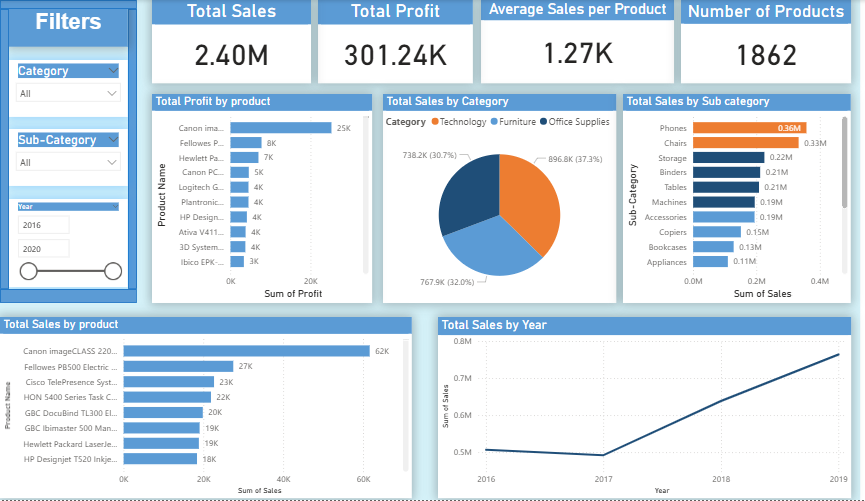

This screenshot's page, from the dashboard's own definition file:
{"tool":"powerbi","page":{"name":"product analysis","canvas":[1280,720],"ordinal":1},"visuals":[{"type":"shape","box":[205.9,13,13,403.2],"z":0},{"type":"textbox","box":[34.6,7.2,171.4,60.5],"z":1000},{"type":"card","title":"Average Sales per Product","fields":{"Values":["Fact.Average Sales per Product"]},"box":[713.8,0,277.9,119.5],"z":2000},{"type":"card","title":"Total Profit","fields":{"Values":["Fact.Total profit"]},"box":[480,0,223.2,119.5],"z":3000},{"type":"card","title":"Number of Products","fields":{"Values":["Count(Dim product.Product ID)"]},"box":[1002.2,0,244.8,119.5],"z":4000},{"type":"card","title":"Total Sales","fields":{"Values":["Fact.Total sales"]},"box":[240.5,0,229,119.5],"z":5000},{"type":"slicer","fields":{"Values":["Dim category.Category"]},"box":[34.6,85.9,171.4,82.1],"z":6000},{"type":"slicer","fields":{"Values":["Dim date.Year"]},"box":[34.6,286.6,171.4,126.7],"z":7000},{"type":"pieChart","title":"Total Sales by Category","fields":{"Category":["Dim category.Category"],"Y":["Sum(Fact.Sales)"]},"box":[573.1,135.4,335.5,301],"z":8000},{"type":"barChart","title":"Total Sales by Sub category","fields":{"Category":["Dim sub category.Sub-Category"],"Y":["Sum(Fact.Sales)"]},"box":[918.7,135.4,328.3,301],"z":9000},{"type":"barChart","title":"Total Profit by product","fields":{"Y":["Sum(Fact.Profit)"],"Category":["Dim product.Product Name"]},"box":[240.5,135.4,316.8,301],"z":10000},{"type":"barChart","title":"Total Sales by product ","fields":{"Y":["Sum(Fact.Sales)"],"Category":["Dim product.Product Name"]},"box":[21.6,456.5,593.3,260.6],"z":11000},{"type":"lineChart","title":"Total Sales by Year","fields":{"Y":["Sum(Fact.Sales)"],"Category":["Dim date.Year","Dim date.Quarter","Dim date.Month Name"]},"box":[652.3,456.5,594.7,260.6],"z":12000},{"type":"slicer","fields":{"Values":["Dim sub category.Sub-Category"]},"box":[34.6,186.2,171.4,82.1],"z":13000},{"type":"shape","box":[21.6,13,13,403.2],"z":14000},{"type":"shape","box":[21.6,416.2,197.3,20.2],"z":15000},{"type":"shape","box":[21.6,0,197.3,13],"z":16000}]}

Visuals, with their boxes in screenshot pixels (x1, y1, x2, y2), scaled from the page's 1280x720 canvas onto the 865x501 screenshot:
shape: detection(139, 9, 148, 290)
textbox: detection(23, 5, 139, 47)
"Average Sales per Product" card: detection(482, 0, 670, 83)
"Total Profit" card: detection(324, 0, 475, 83)
"Number of Products" card: detection(677, 0, 843, 83)
"Total Sales" card: detection(163, 0, 317, 83)
slicer - Dim category.Category: detection(23, 60, 139, 117)
slicer - Dim date.Year: detection(23, 199, 139, 288)
"Total Sales by Category" pieChart: detection(387, 94, 614, 304)
"Total Sales by Sub category" barChart: detection(621, 94, 843, 304)
"Total Profit by product" barChart: detection(163, 94, 377, 304)
"Total Sales by product " barChart: detection(15, 318, 416, 499)
"Total Sales by Year" lineChart: detection(441, 318, 843, 499)
slicer - Dim sub category.Sub-Category: detection(23, 130, 139, 187)
shape: detection(15, 9, 23, 290)
shape: detection(15, 290, 148, 304)
shape: detection(15, 0, 148, 9)
